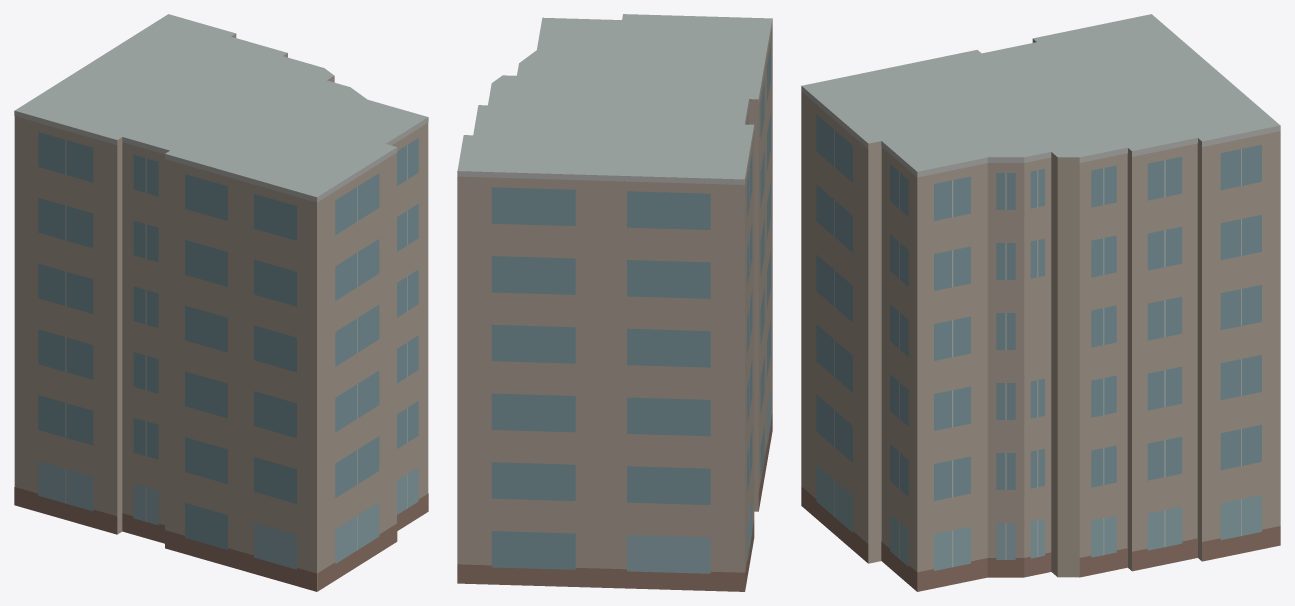
File: survey-upis-32905113.glb
The picture shows the model from 3 angles, left to right: view 1: azimuth 30°, elevation 25°; view 2: azimuth 150°, elevation 25°; view 3: azimuth 270°, elevation 25°; orthographic projection. The views are drawn at different scales.
Parts seen in each view (by area): view 1: survey-upis-32905113.tmp; view 2: survey-upis-32905113.tmp; view 3: survey-upis-32905113.tmp.
Part boxes in pixels (x1=…): survey-upis-32905113.tmp: x1=14, y1=14, x2=428, y2=591; survey-upis-32905113.tmp: x1=457, y1=14, x2=772, y2=591; survey-upis-32905113.tmp: x1=801, y1=14, x2=1280, y2=591.
Bounding box in the file's own units: 14.76 × 18.3 × 18.93.
